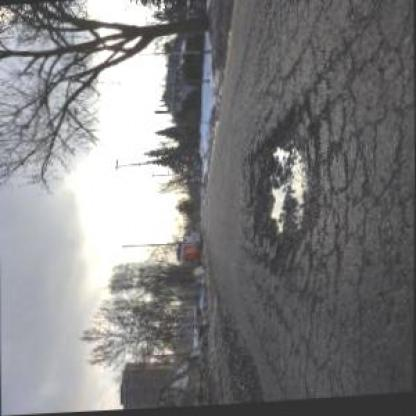pothole: (245, 108, 322, 259)
